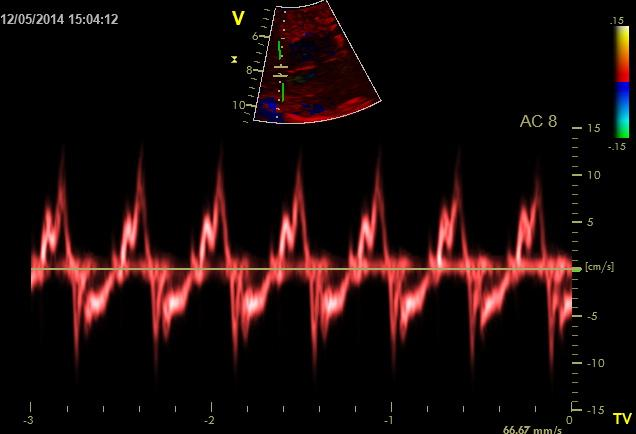Ultrasound-Waves: (29, 129, 570, 400)
